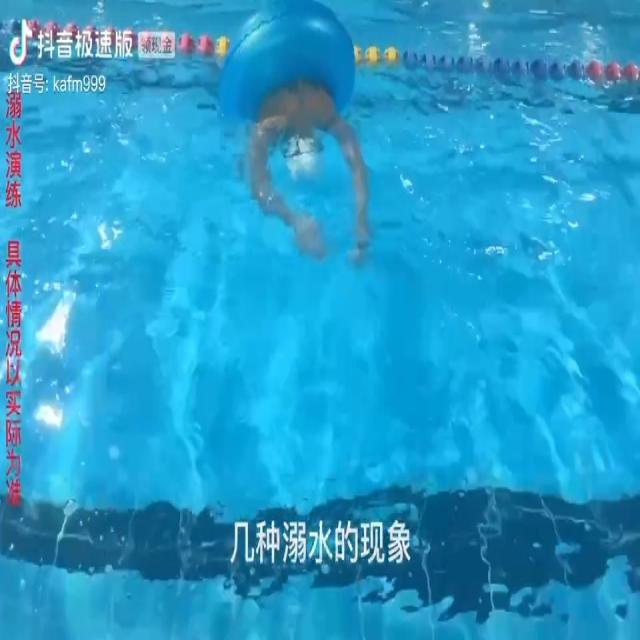Drowning: (244, 64, 376, 269)
